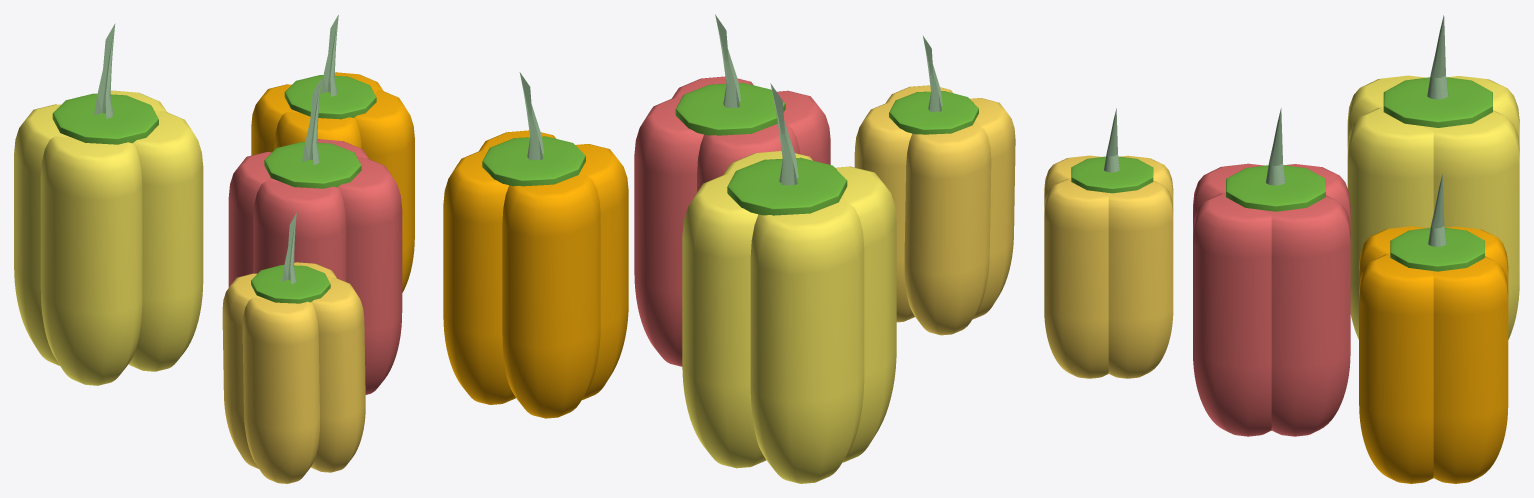
Rendered from bell-pepper.gltf.
3 views of the same model, side by side, from view 1: azimuth 30°, elevation 25°; view 2: azimuth 150°, elevation 25°; view 3: azimuth 270°, elevation 25° (orthographic). The views are drawn at different scales.
Parts seen in each view (by area): view 1: Cylinder_-_baked_3 (×4), Cylinder_-_baked (×4), Cylinder_-_baked_2 (×4), Cylinder_-_baked_5 (×3), Cylinder_-_baked_4, Cone_-_baked (×4); view 2: Cylinder_-_baked_2 (×4), Cylinder_-_baked_1 (×4), Cylinder_-_baked_3 (×4), Cylinder_-_baked_5 (×3), Cylinder_-_baked_4, Cone_-_baked (×4), Cylinder_-_baked; view 3: Cylinder_-_baked_1 (×4), Cylinder_-_baked (×4), Cylinder_-_baked_5 (×3), Cylinder_-_baked_3 (×4), Cylinder_-_baked_4, Cylinder_-_baked_2 (×4), Cone_-_baked (×4).
Boxes of the visible parts, x1,y1,x2,y2 form: Cylinder_-_baked_3 (×4): [40, 112, 361, 483]; Cylinder_-_baked (×4): [128, 89, 414, 472]; Cylinder_-_baked_2 (×4): [14, 84, 299, 468]; Cylinder_-_baked_5 (×3): [52, 75, 376, 303]; Cylinder_-_baked_4: [264, 142, 361, 188]; Cone_-_baked (×4): [94, 15, 338, 283]; Cylinder_-_baked_2 (×4): [502, 120, 991, 483]; Cylinder_-_baked_1 (×4): [443, 96, 914, 468]; Cylinder_-_baked_3 (×4): [575, 90, 1015, 462]; Cylinder_-_baked_5 (×3): [482, 91, 978, 215]; Cylinder_-_baked_4: [675, 82, 785, 135]; Cone_-_baked (×4): [519, 14, 942, 185]; Cylinder_-_baked: [723, 151, 812, 174]; Cylinder_-_baked_1 (×4): [1100, 110, 1519, 483]; Cylinder_-_baked (×4): [1044, 107, 1439, 483]; Cylinder_-_baked_5 (×3): [1071, 77, 1492, 271]; Cylinder_-_baked_3 (×4): [1044, 75, 1426, 290]; Cylinder_-_baked_4: [1226, 165, 1325, 211]; Cylinder_-_baked_2 (×4): [1121, 76, 1519, 289]; Cone_-_baked (×4): [1104, 15, 1448, 246].
Bounding box in the file's own units: 237 × 209 × 262.
